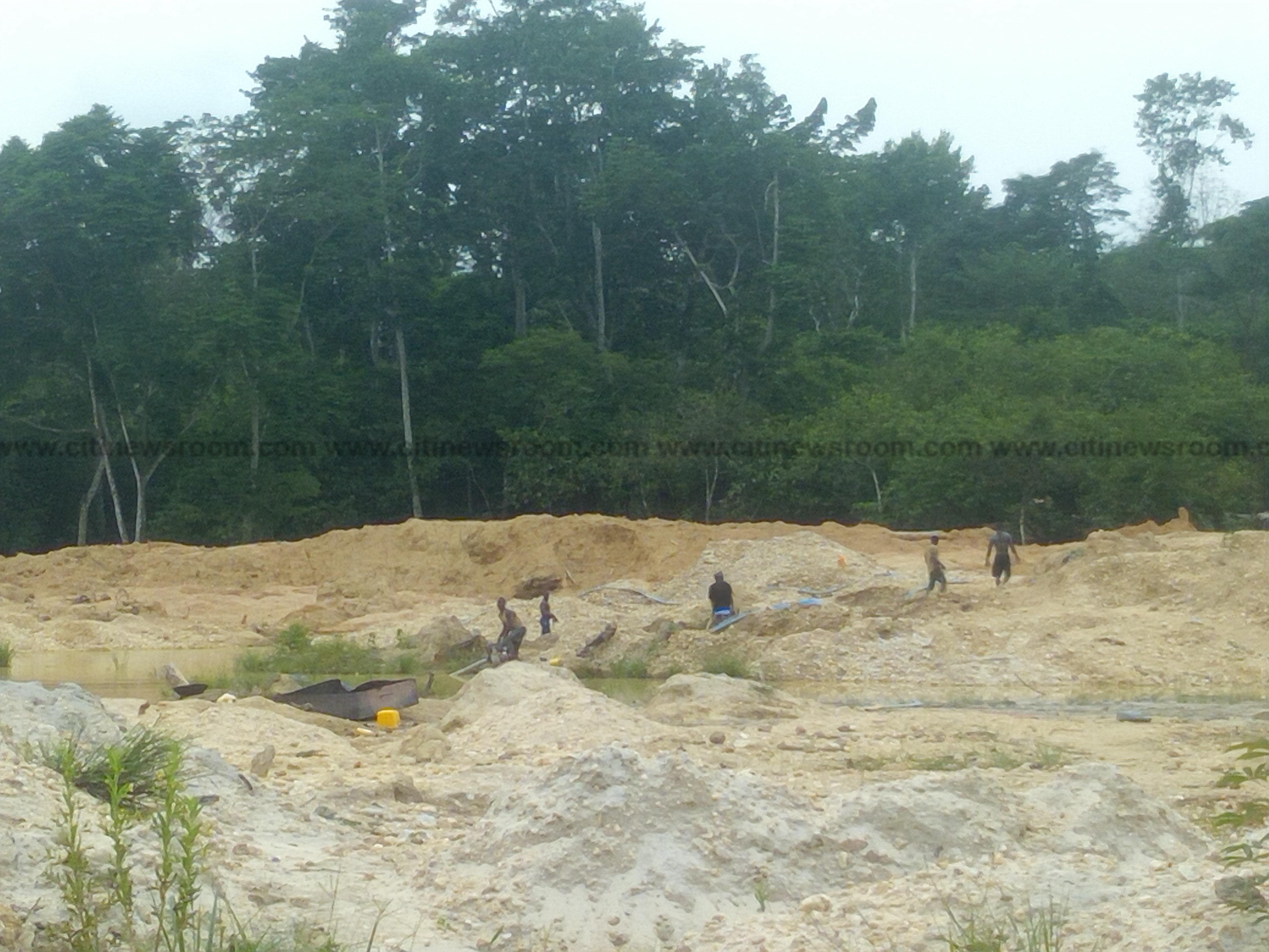MiningTool: (175, 676, 210, 696)
Person: (491, 596, 533, 662), (982, 525, 1022, 588), (706, 570, 735, 626), (922, 534, 948, 594), (537, 591, 558, 635)
